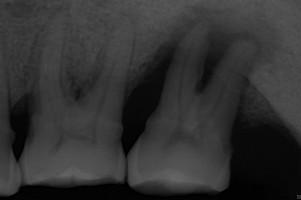Dental Caries: (139, 0, 291, 92)
Endo-Periodontal Lesion: (67, 72, 99, 102)
Furcation Involvement: (115, 7, 139, 36)
